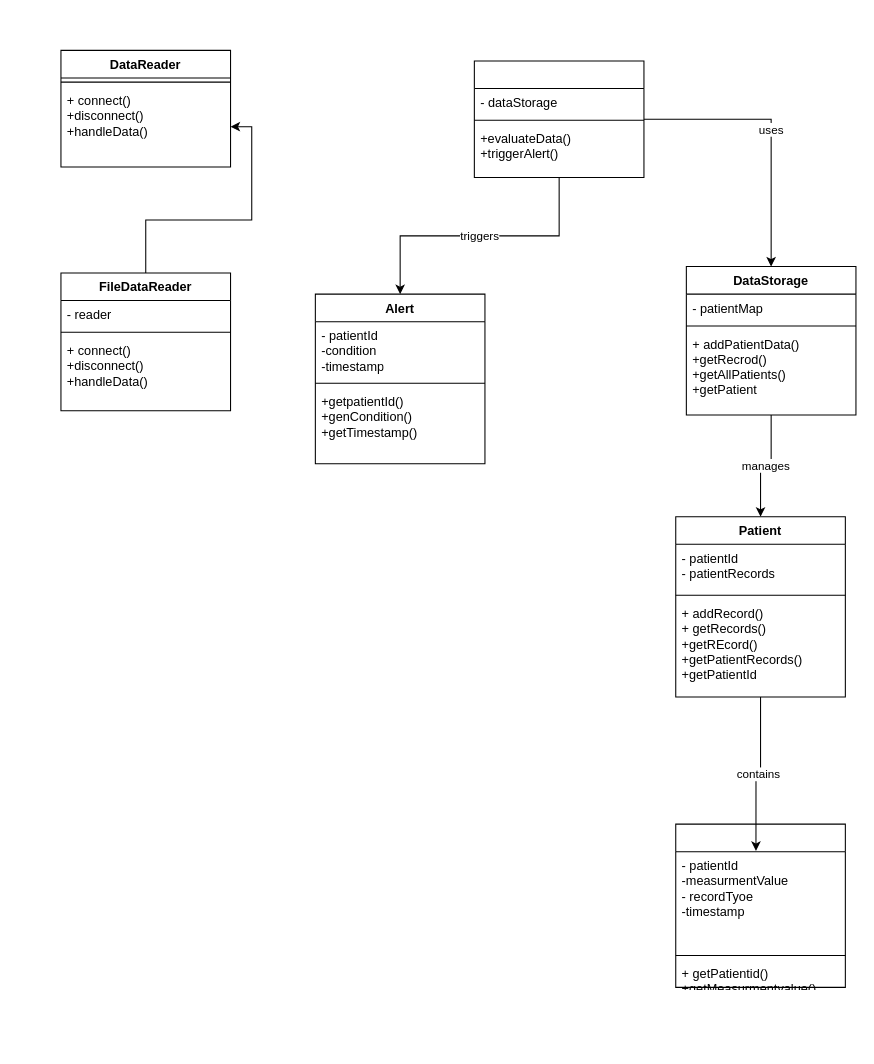
Image size: 874x1064. Some labels were removed from this diagram. The shapes that lost their labels are listed below. From the top down, each one's box as (x1, y1, x2, y2) in pixels, then its label:
(473, 60, 644, 178): AlertGenerator
(675, 823, 845, 987): PatientRecord
